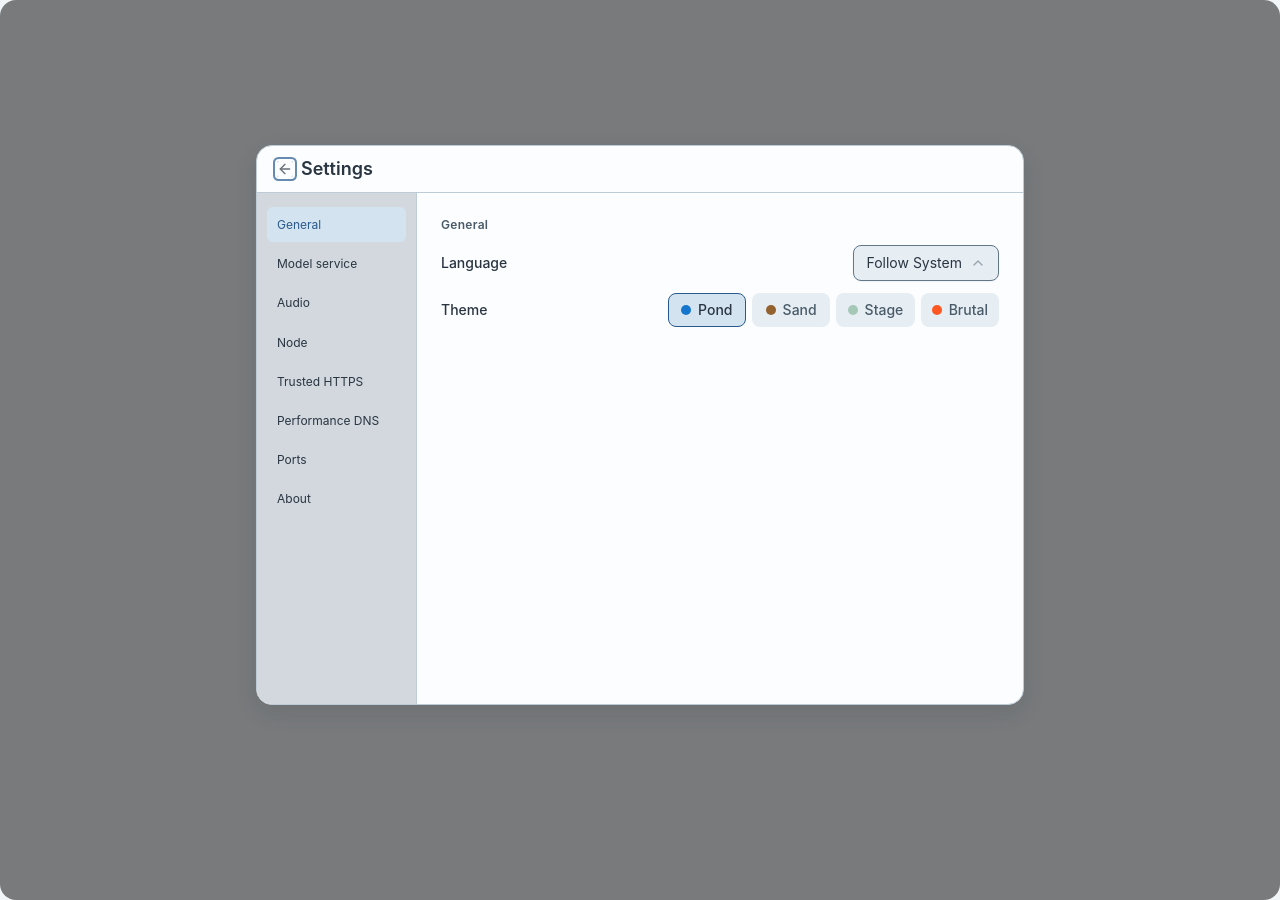
Test case: SettingsPanel (v1.2.0 issue #13) › switching to 简体中文 applies immediately and persists
Click the dropdown named "Language" at coordinates (926, 263), box [854, 245, 999, 281]
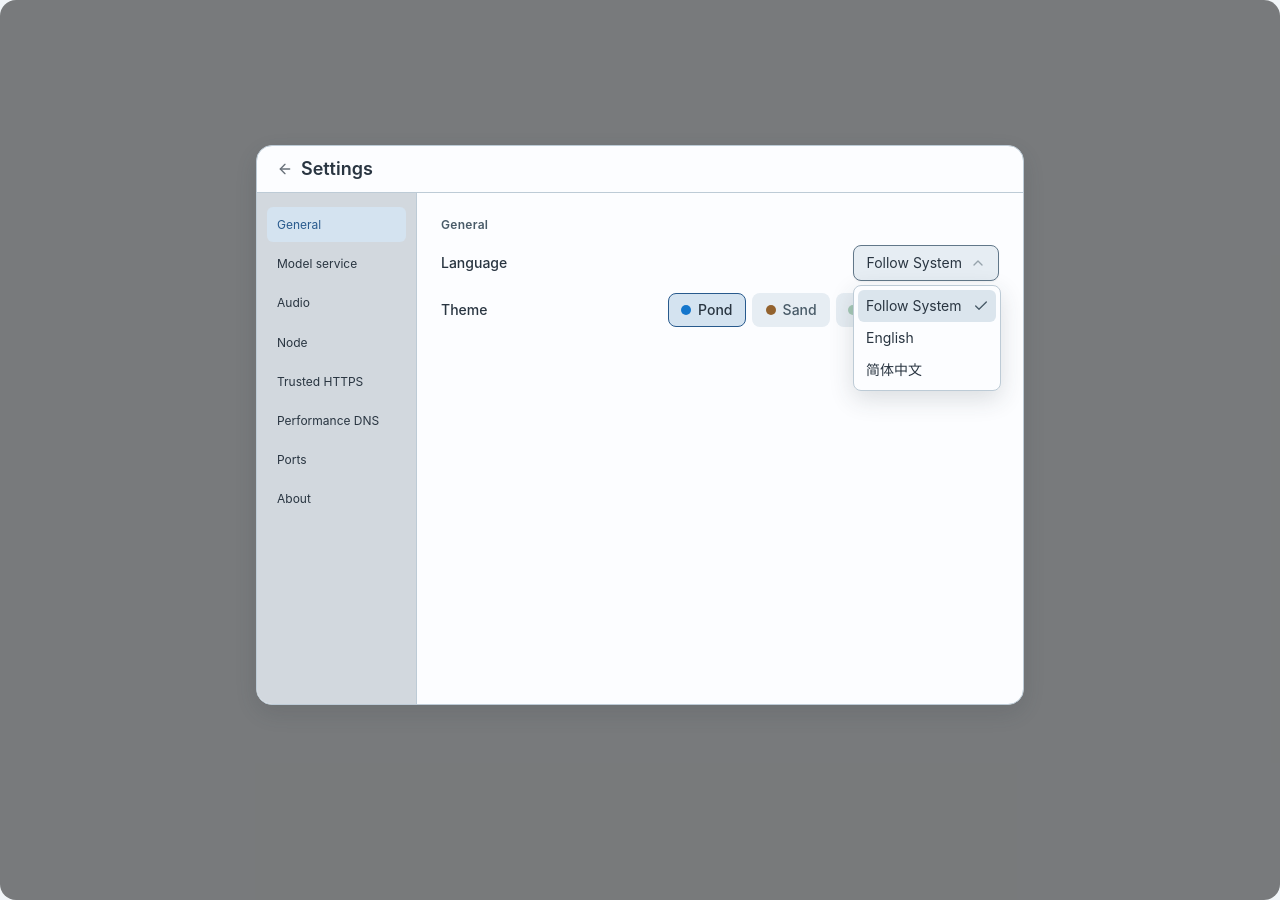
Click the option "简体中文" at coordinates (894, 370), box [866, 361, 922, 378]
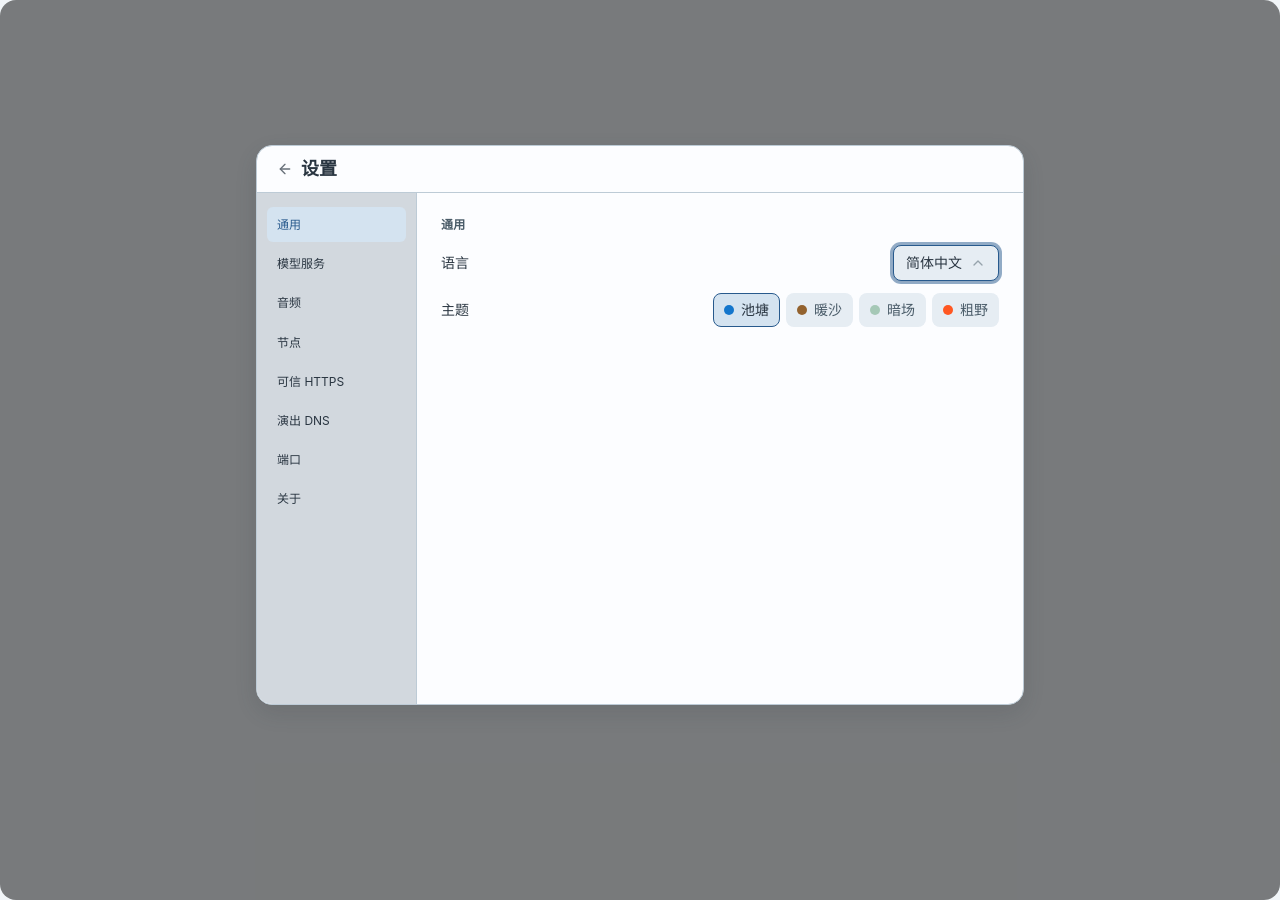
Now the heading "通用" is shown, box [441, 217, 466, 232]
